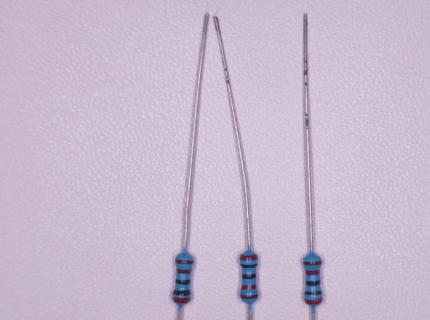Black band: (173, 289, 190, 296), (305, 280, 320, 286), (176, 279, 190, 284), (242, 274, 256, 279), (240, 264, 257, 268), (305, 291, 322, 295)
Brown band: (241, 294, 259, 300), (176, 259, 194, 264), (304, 261, 321, 266)
Red band: (305, 297, 322, 305), (173, 297, 191, 302), (240, 255, 258, 260), (241, 284, 256, 290), (305, 270, 320, 276), (176, 269, 191, 274)
